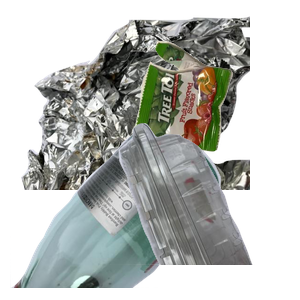glass: (10, 120, 224, 300)
metal: (19, 14, 259, 194)
plastic: (71, 120, 300, 300)
trash: (131, 38, 300, 182)
